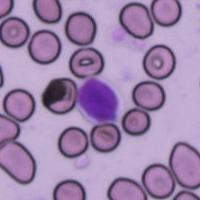L: (75, 73, 123, 126)
